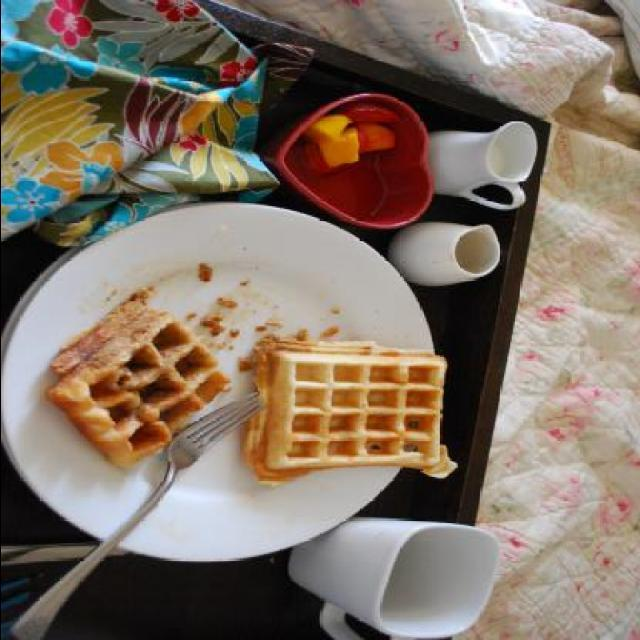Waffle: (49, 288, 238, 470), (241, 334, 457, 486)
